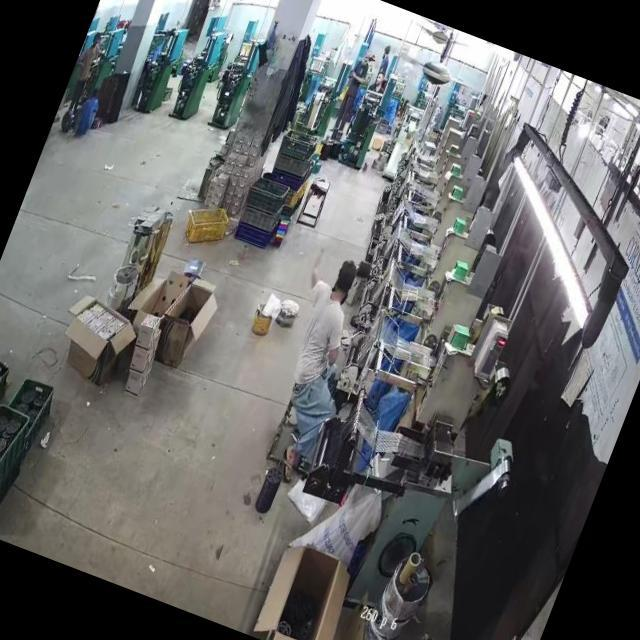person: (250, 247, 388, 488), (61, 28, 107, 112), (332, 54, 373, 130), (371, 38, 398, 75)
